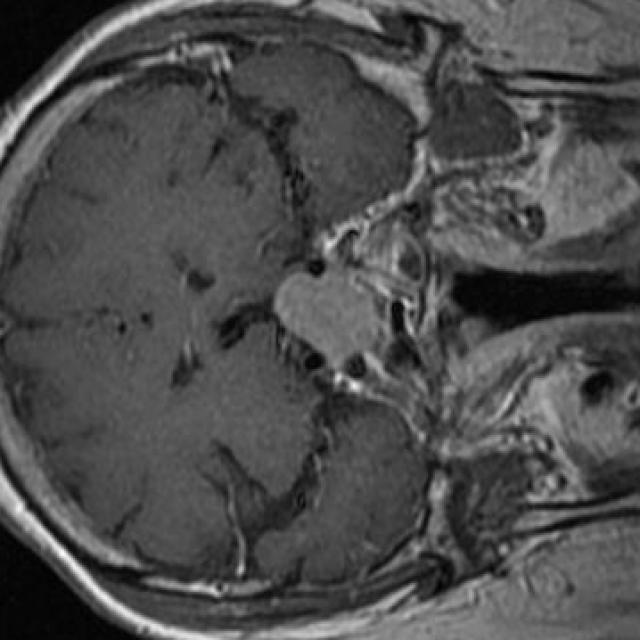pituitary: (275, 273, 383, 360)
